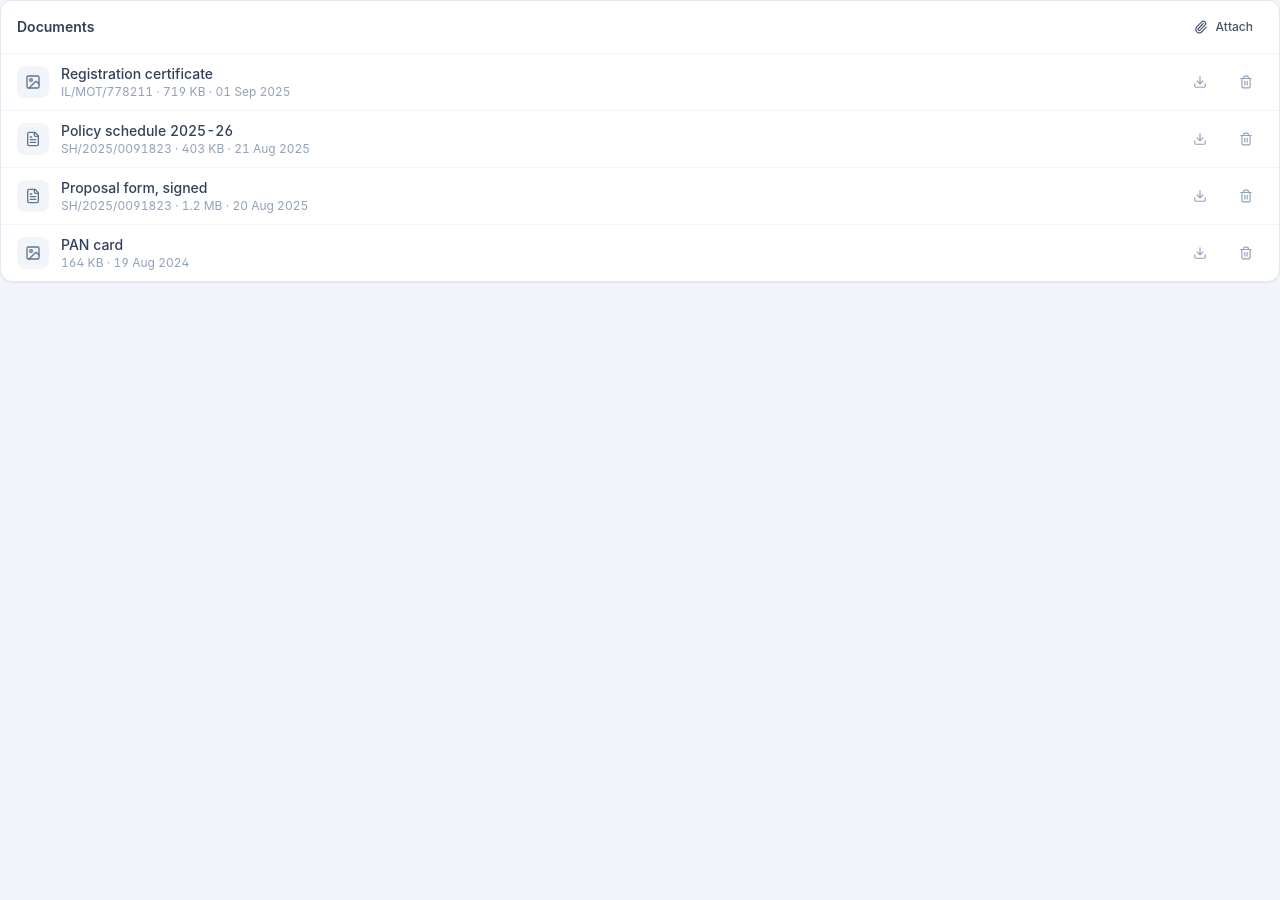
Test: attaching a document › files the document against a policy when one is chosen
The image size is (1280, 900).
Click the button "Attach": coordinates (1223, 27) [1184, 13, 1263, 41]
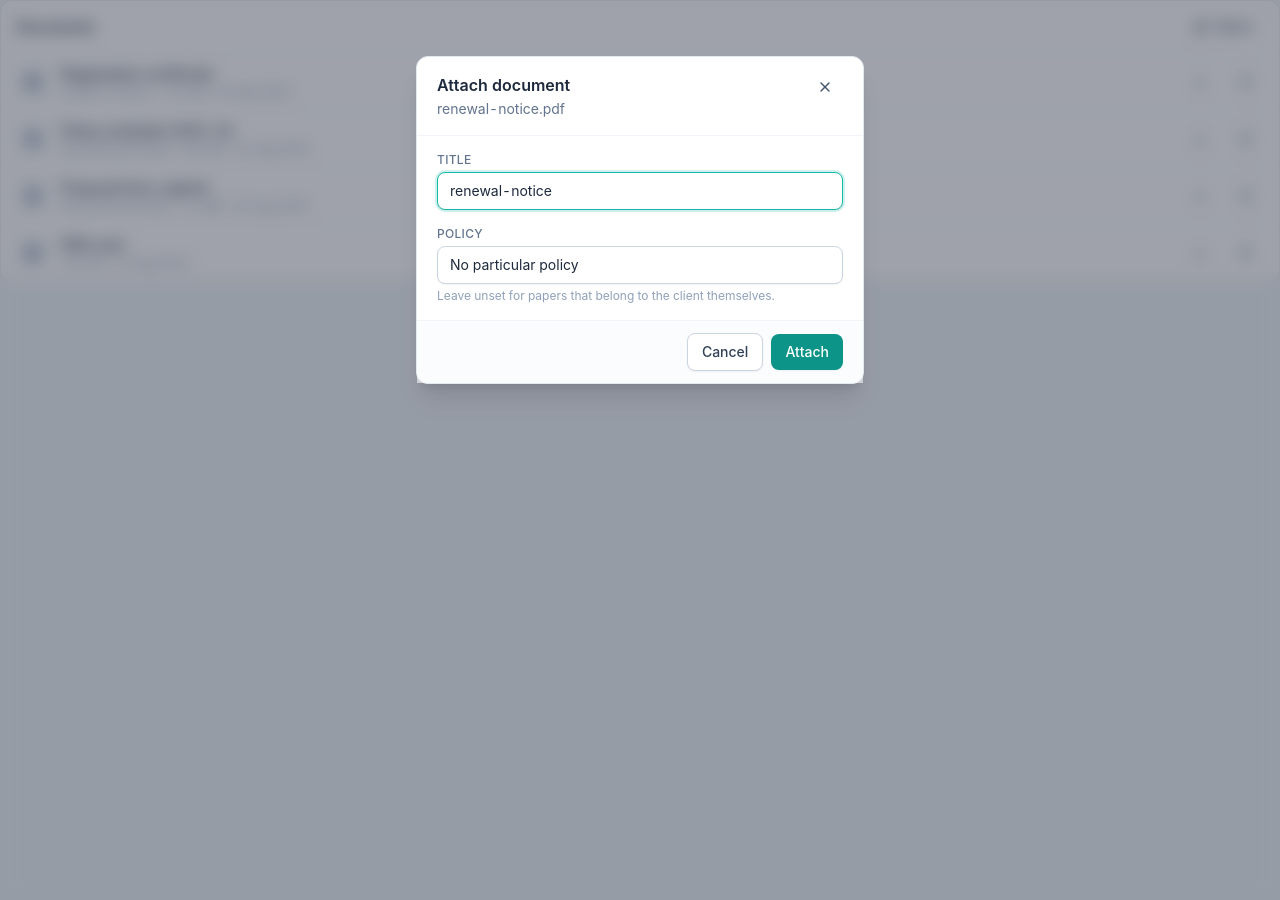
Select "SH/2025/0091823 · Star Health" in the dropdown: coordinates (640, 265) [437, 246, 843, 284]
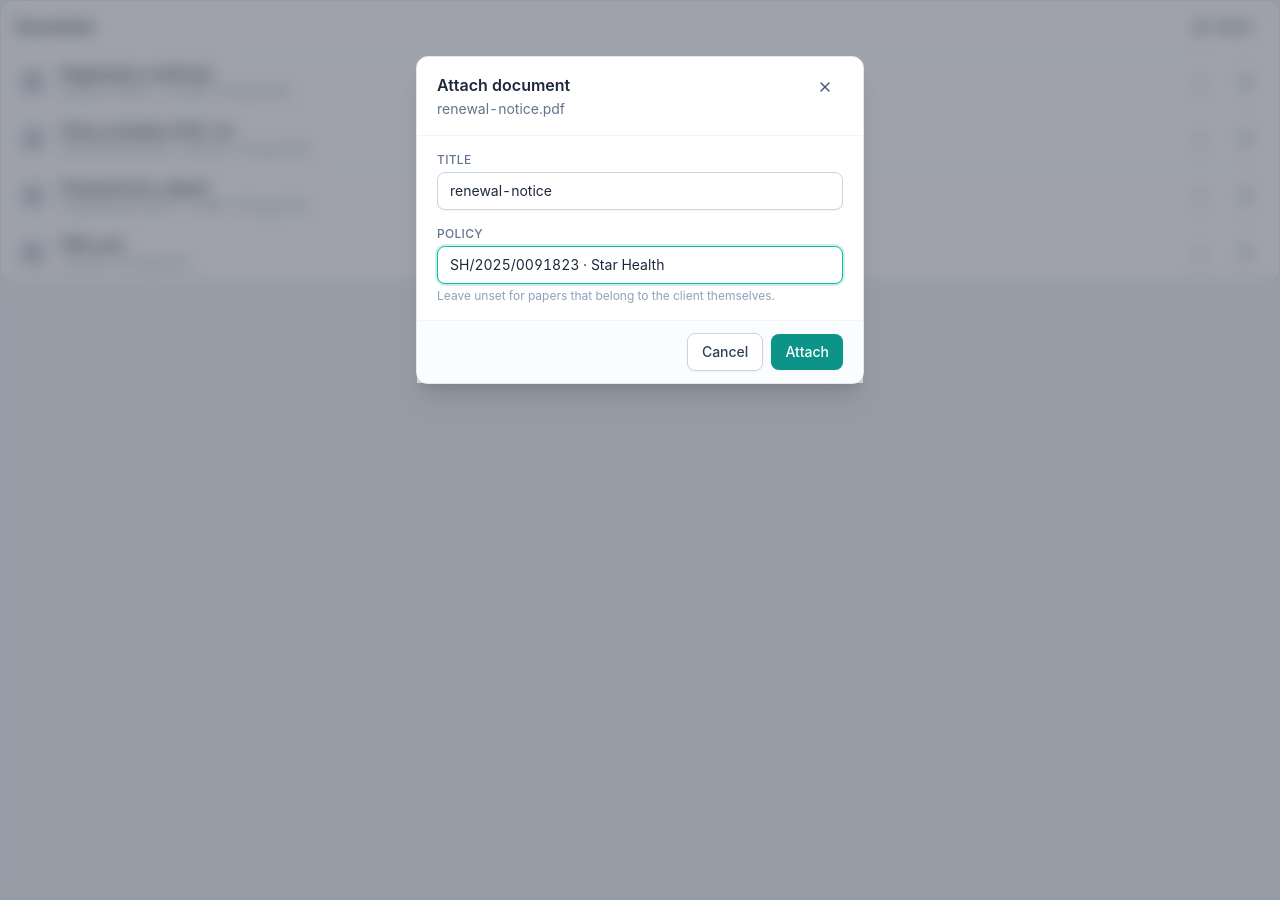
Click the button "Attach": coordinates (807, 352) [771, 334, 843, 370]
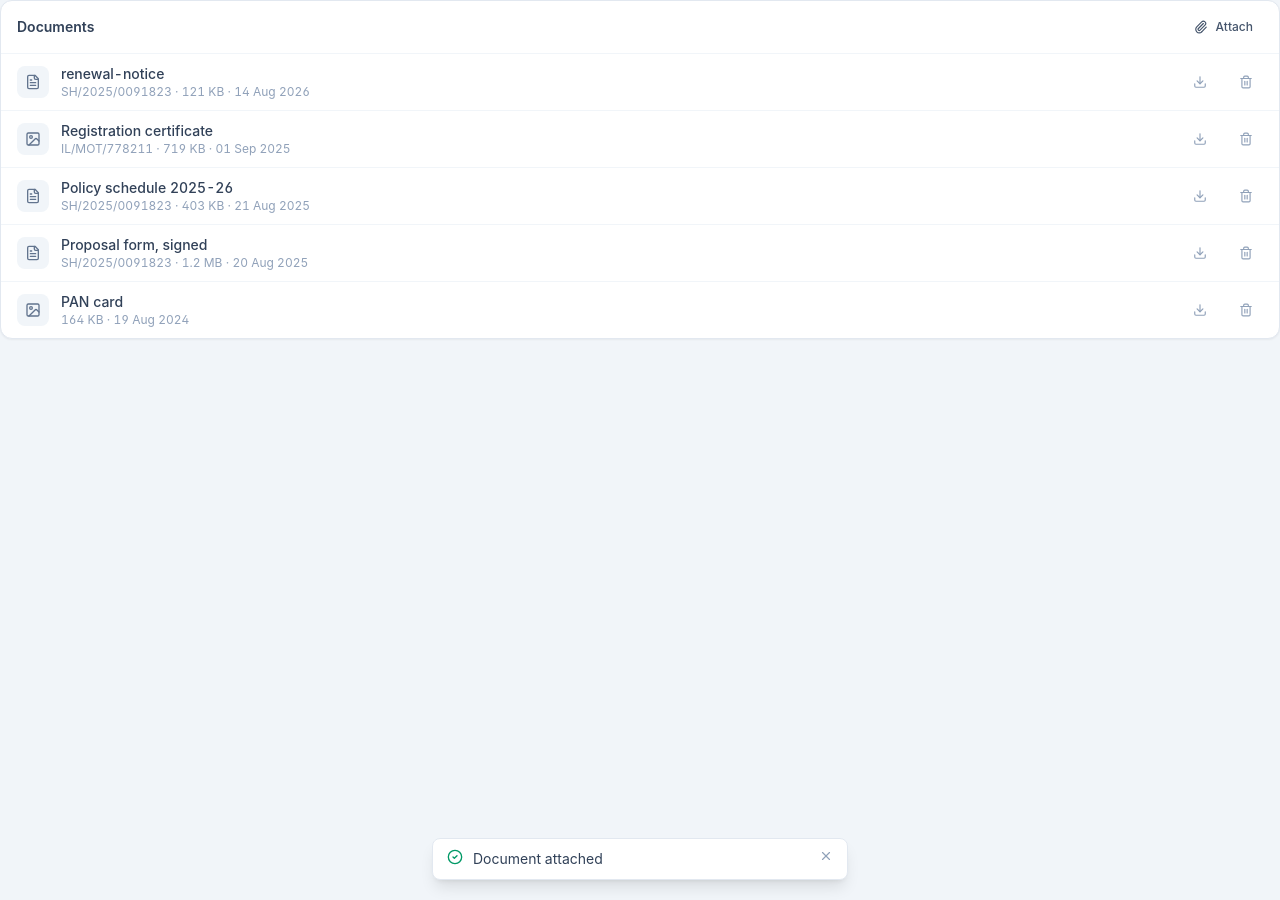
Expected: the text "Document attached" is shown, [473, 850, 603, 867]
Expected: the text "SH/2025/0091823 · 121 KB · 14 Aug 2026" is shown, [61, 84, 310, 99]
